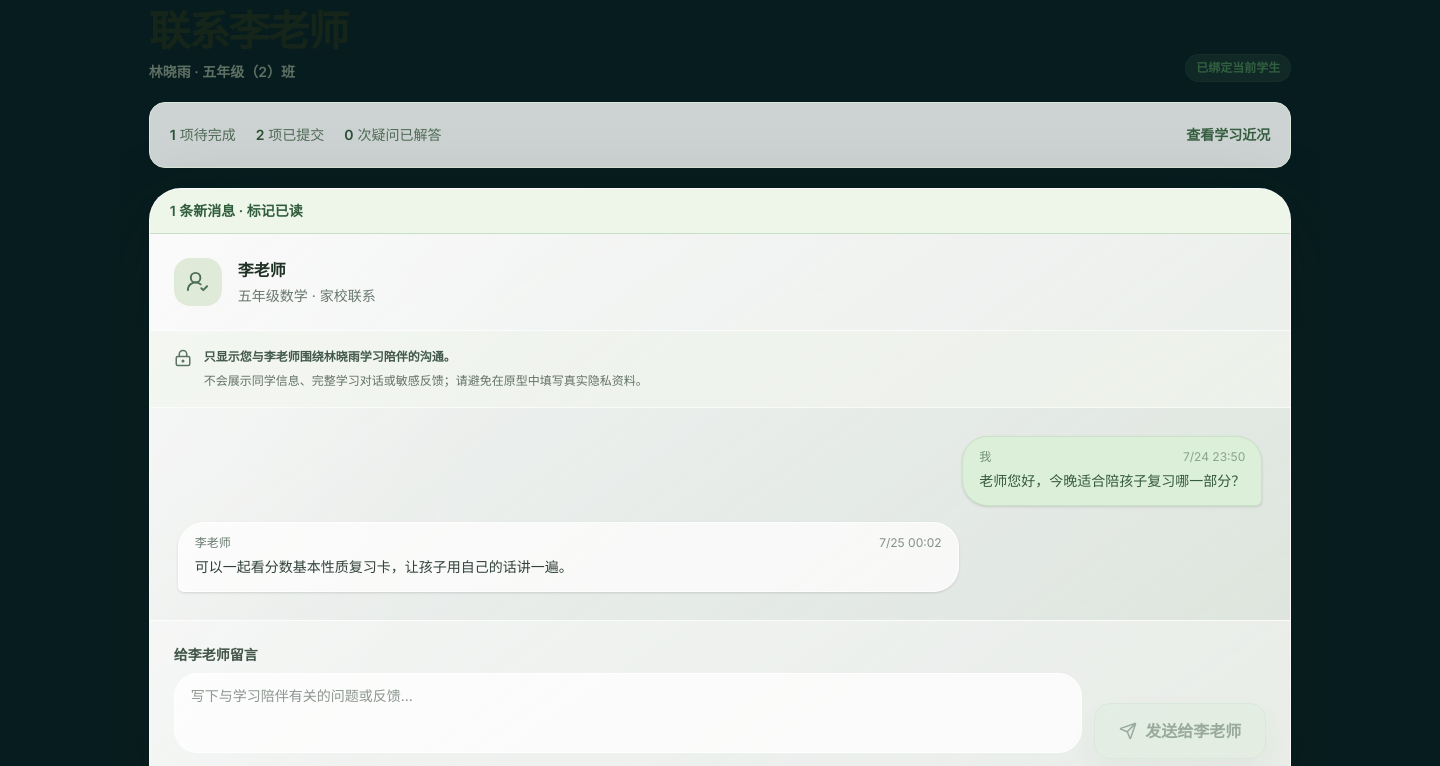
Scenario: ParentMessagesPage › sends a local prototype message to Li teacher and updates the conversation
Expected: the button "发送给李老师" is disabled, [1094,703,1266,759]
In the text box labelled "给李老师留言": (628, 713) [174,673,1082,753], type "谢谢老师，我们今晚会一起复述。"
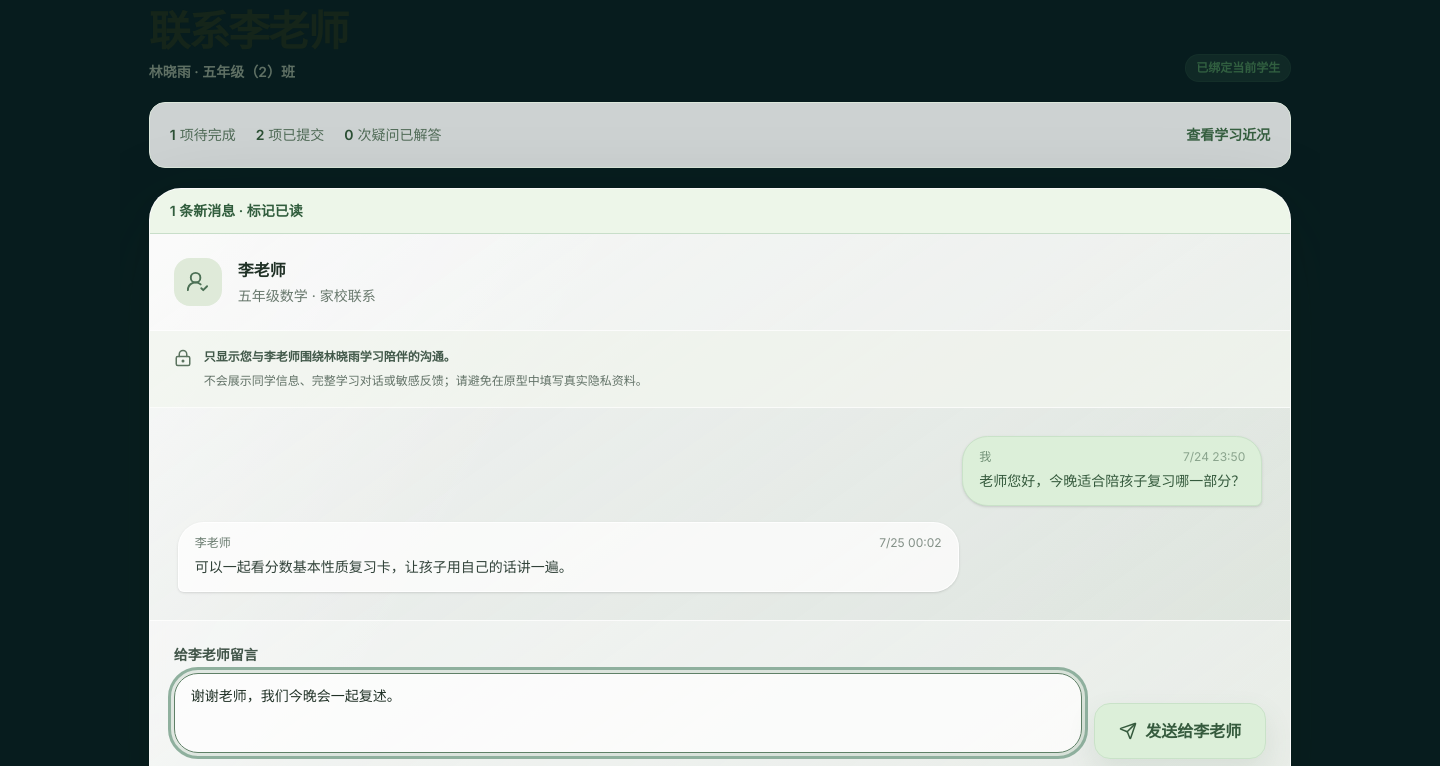
Press Enter
(page scrolled)
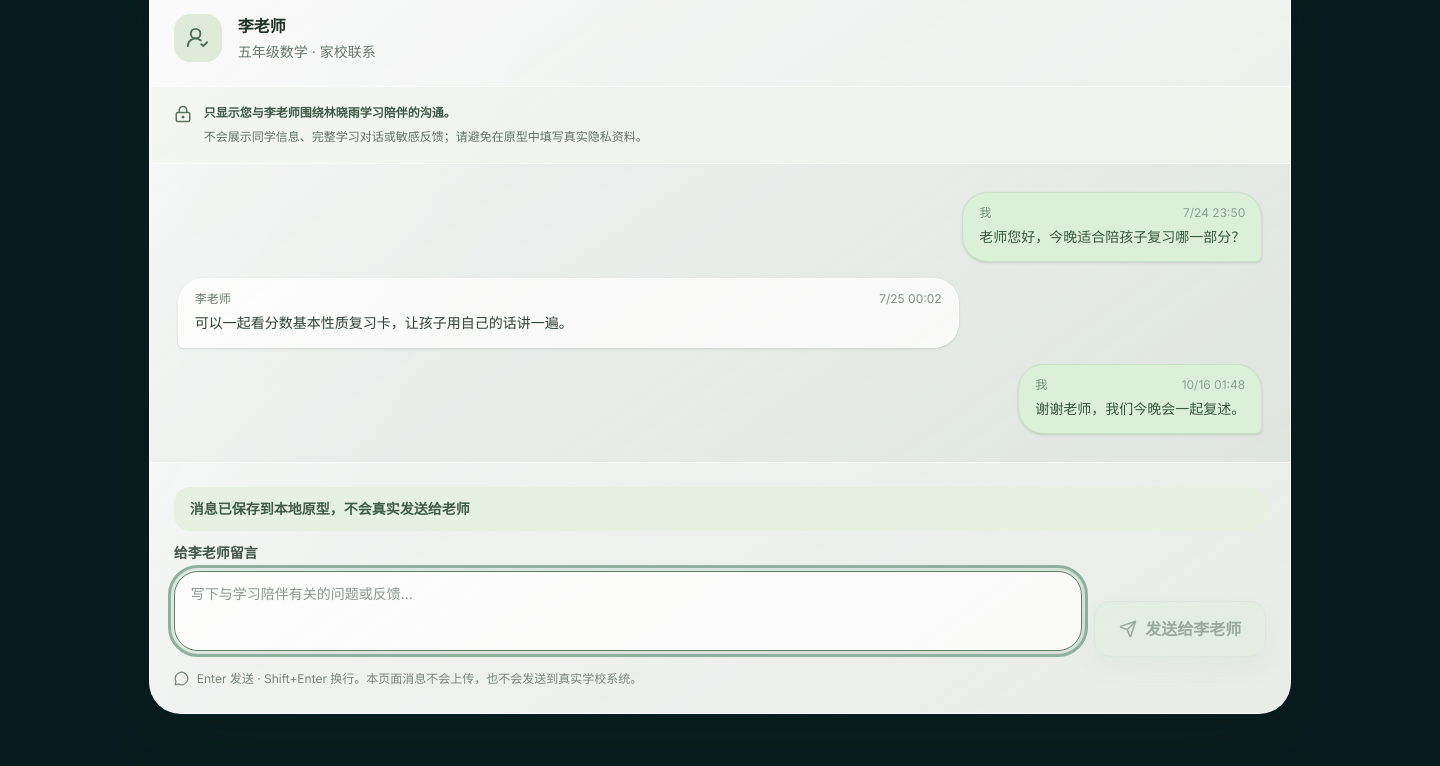
Now the text "谢谢老师，我们今晚会一起复述。" is shown, box [1035,397,1245,421]
Now the message shows "消息已保存到本地原型", box [190,500,470,517]
Now the text box labelled "给李老师留言" is empty, box [174,571,1082,651]
